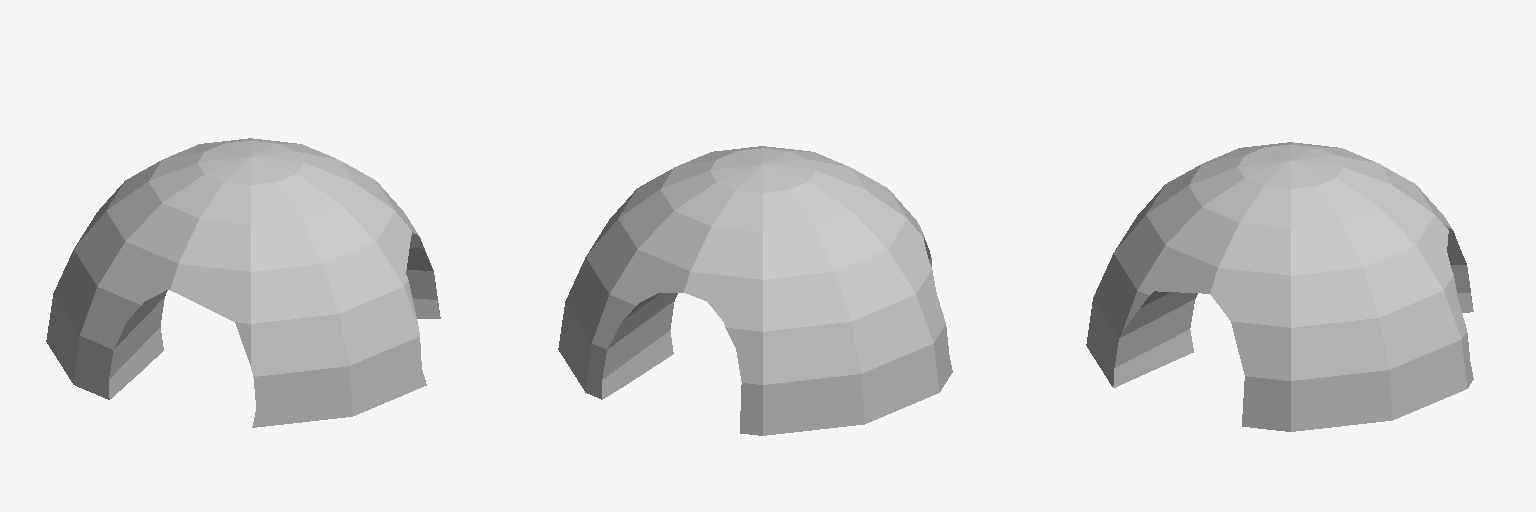
File: HoleRock.obj
3 views of the same model, side by side, from view 1: azimuth 30°, elevation 25°; view 2: azimuth 150°, elevation 25°; view 3: azimuth 270°, elevation 25° (orthographic).
Visible parts, largest first — view 1: pSphere4; view 2: pSphere4; view 3: pSphere4.
Boxes of the visible parts, x1,y1,x2,y2 form: pSphere4: [46, 138, 440, 427]; pSphere4: [558, 146, 952, 435]; pSphere4: [1086, 142, 1473, 431].
Bounding box in the file's own units: 17.01 × 8.77 × 16.13.